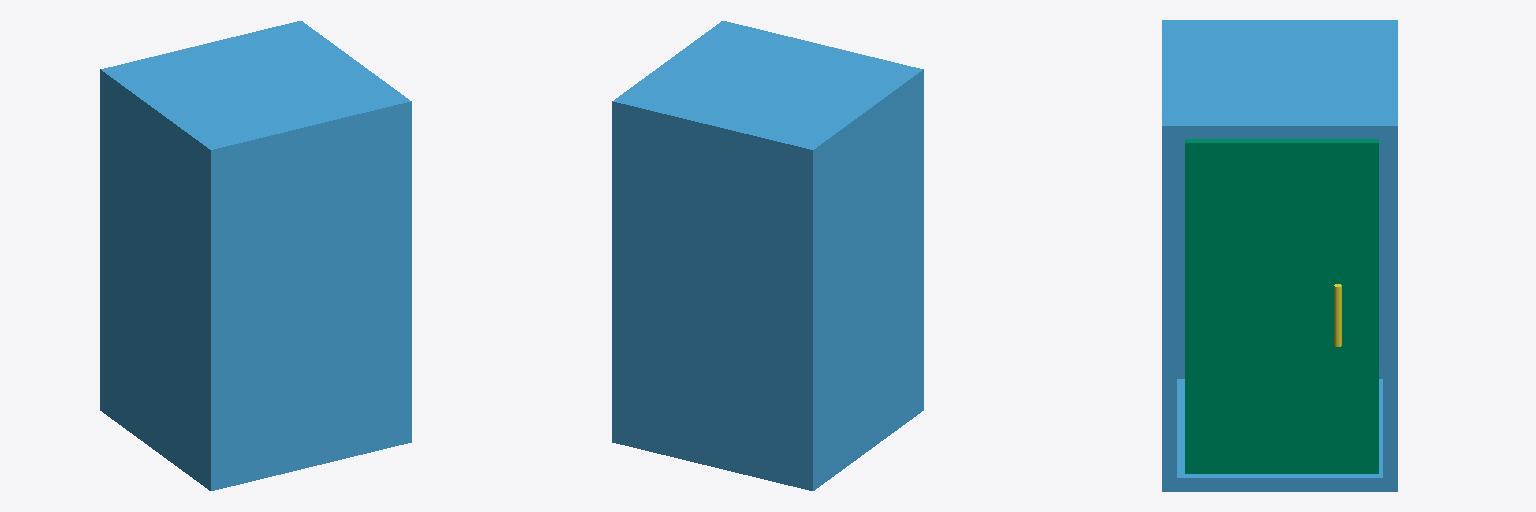
URDF robot description (my_cabinet):
<?xml version="1.0" ?>
<robot name="my_cabinet">
	<link name="world"/>
	<joint name="virtual_joint" type="fixed">
		<parent link="world"/>
		<child link="base_cabinet_link"/>
		<origin xyz="0.0 0.0 0.0" rpy="0.0 0.0 0.0"/>
	</joint>
	<link name="base_cabinet_link">
		<visual>
			<origin xyz="0.0 -0.0025 -0.2346928509614332" rpy="0.0 0.0 0.0"/>
			<geometry>
				<box size="0.3 0.28580366776067345 0.018"/>
			</geometry>
		</visual>
		<collision name="base_cabinet_link_collision_0">
			<origin xyz="0.0 -0.0025 -0.2346928509614332" rpy="0.0 0.0 0.0"/>
			<geometry>
				<box size="0.3 0.28580366776067345 0.018"/>
			</geometry>
		</collision>
		<visual>
			<origin xyz="0.0 0.13140183388033674 0.0" rpy="0.0 0.0 0.0"/>
			<geometry>
				<box size="0.3 0.018 0.4873857019228664"/>
			</geometry>
		</visual>
		<collision name="base_cabinet_link_collision_1">
			<origin xyz="0.0 0.13140183388033674 0.0" rpy="0.0 0.0 0.0"/>
			<geometry>
				<box size="0.3 0.018 0.4873857019228664"/>
			</geometry>
		</collision>
		<visual>
			<origin xyz="0.0 -0.13640183388033675 0.0" rpy="0.0 0.0 0.0"/>
			<geometry>
				<box size="0.3 0.018 0.4873857019228664"/>
			</geometry>
		</visual>
		<collision name="base_cabinet_link_collision_2">
			<origin xyz="0.0 -0.13640183388033675 0.0" rpy="0.0 0.0 0.0"/>
			<geometry>
				<box size="0.3 0.018 0.4873857019228664"/>
			</geometry>
		</collision>
		<visual>
			<origin xyz="0.0 -0.0025 0.2346928509614332" rpy="0.0 0.0 0.0"/>
			<geometry>
				<box size="0.3 0.2858036677606735 0.018"/>
			</geometry>
		</visual>
		<collision name="base_cabinet_link_collision_3">
			<origin xyz="0.0 -0.0025 0.2346928509614332" rpy="0.0 0.0 0.0"/>
			<geometry>
				<box size="0.3 0.2858036677606735 0.018"/>
			</geometry>
		</collision>
		<visual>
			<origin xyz="-0.141 -0.0025 0.0" rpy="0.0 0.0 0.0"/>
			<geometry>
				<box size="0.018 0.2858036677606735 0.4873857019228664"/>
			</geometry>
		</visual>
		<collision name="base_cabinet_link_collision_4">
			<origin xyz="-0.141 -0.0025 0.0" rpy="0.0 0.0 0.0"/>
			<geometry>
				<box size="0.018 0.2858036677606735 0.4873857019228664"/>
			</geometry>
		</collision>
		<inertial>
			<mass value="0.200000"/>
			<inertia ixx="0.005320" ixy="0.0" ixz="0.0" iyy="0.005459" iyz="0.0" izz="0.002861"/>
		</inertial>
	</link>
	<link name="door_link">
		<visual>
			<origin xyz="0.0 -0.11740183388033675 0.0"/>
			<geometry>
				<box size="0.018 0.2348036677606735 0.44138570192286636"/>
			</geometry>
		</visual>
		<collision name="door_link_collision">
			<origin xyz="0.0 -0.11740183388033675 0.0"/>
			<geometry>
				<box size="0.018 0.2348036677606735 0.44138570192286636"/>
			</geometry>
		</collision>
		<inertial>
			<mass value="0.200000"/>
			<inertia ixx="0.004166" ixy="0.0" ixz="0.0" iyy="0.003252" iyz="0.0" izz="0.000924"/>
		</inertial>
	</link>
	<joint name="door_joint" type="revolute">
		<origin xyz="0.141 -0.11740183388033675 0.0" rpy="0.000000 -0.000000 3.141593"/>
		<axis xyz="0 0 1"/>
		<parent link="base_cabinet_link"/>
		<child link="door_link"/>
		<limit effort="50" lower="-1.658062789394613" upper="0" velocity="10"/>
		<dynamics friction="3.5" damping="3.5"/>
	</joint>
	<link name="handle_link">
		<visual>
			<origin xyz="0.0 0.0 0.0" rpy="0.0 0.0 0.0"/>
			<geometry>
				<cylinder length="0.08" radius="0.005"/>
			</geometry>
		</visual>
		<collision name="handle_link_collision_0">
			<origin xyz="0.0 0.0 0.0" rpy="0.0 0.0 0.0"/>
			<geometry>
				<cylinder length="0.08" radius="0.005"/>
			</geometry>
		</collision>
		<visual>
			<origin xyz="-0.01 0.0 0.02" rpy="0.0 1.5707963267948966 0.0"/>
			<geometry>
				<cylinder length="0.02" radius="0.003"/>
			</geometry>
		</visual>
		<collision name="handle_link_collision_1">
			<origin xyz="-0.01 0.0 0.02" rpy="0.0 1.5707963267948966 0.0"/>
			<geometry>
				<cylinder length="0.01" radius="0.003"/>
			</geometry>
		</collision>
		<visual>
			<origin xyz="-0.01 0.0 -0.02" rpy="0.0 1.5707963267948966 0.0"/>
			<geometry>
				<cylinder length="0.02" radius="0.003"/>
			</geometry>
		</visual>
		<collision name="handle_link_collision_2">
			<origin xyz="-0.01 0.0 -0.02" rpy="0.0 1.5707963267948966 0.0"/>
			<geometry>
				<cylinder length="0.02" radius="0.003"/>
			</geometry>
		</collision>
		<inertial>
			<mass value="0.050000"/>
			<inertia ixx="0.000027" ixy="0.0" ixz="0.0" iyy="0.000029" iyz="0.0" izz="0.000003"/>
		</inertial>
	</link>
	<joint name="handle_joint" type="fixed">
		<origin xyz="-0.028999999999999998 -0.18480366776067347 0.0" rpy="0.000000 -0.000000 3.141593"/>
		<parent link="door_link"/>
		<child link="handle_link"/>
	</joint>
	<gazebo reference="base_cabinet_link">
		<sensor name="main_sensor" type="contact">
			<selfCollide>true</selfCollide>
			<alwaysOn>true</alwaysOn>
			<updateRate>5.0</updateRate>
			<material>Gazebo/Red</material>
			<contact>
				<collision>base_cabinet_link_collision_0_collision</collision>
				<collision>base_cabinet_link_collision_1_collision</collision>
				<collision>base_cabinet_link_collision_2_collision</collision>
				<collision>base_cabinet_link_collision_3_collision</collision>
				<collision>base_cabinet_link_collision_4_collision</collision>
			</contact>
			<plugin name="gazebo_ros_bumper_controller" filename="libgazebo_ros_bumper.so">
				<bumperTopicName>/contact</bumperTopicName>
				<frameName>world</frameName>
			</plugin>
		</sensor>
	</gazebo>
	<gazebo reference="door_link">
		<sensor name="main_sensor" type="contact">
			<selfCollide>true</selfCollide>
			<alwaysOn>true</alwaysOn>
			<updateRate>5.0</updateRate>
			<material>Gazebo/Red</material>
			<contact>
				<collision>door_link_collision_collision</collision>
			</contact>
			<plugin name="gazebo_ros_bumper_controller" filename="libgazebo_ros_bumper.so">
				<bumperTopicName>/contact_door</bumperTopicName>
				<frameName>contact_door</frameName>
			</plugin>
		</sensor>
	</gazebo>
	<gazebo reference="door_link">
		<mu>3.0</mu>
		<mu2>3.0</mu2>
		<kp>10000000</kp>
		<kd>100</kd>
	</gazebo>
</robot>

--- What the picture shows (computed from the rendered views, not written in the file) ---
3 views of the same robot in one strip: view 1: azimuth 30°, elevation 25°; view 2: azimuth 150°, elevation 25°; view 3: azimuth 270°, elevation 25° (orthographic).
Robot: my_cabinet — 4 links, 3 joints (1 revolute, 2 fixed); root link world; default pose: every joint at zero.
Visible links, largest first — view 1: base_cabinet_link; view 2: base_cabinet_link; view 3: door_link, base_cabinet_link.
Link boxes in pixels (box(x1,y1,x2,y2)): base_cabinet_link: box(100, 21, 411, 490); base_cabinet_link: box(612, 21, 923, 490); door_link: box(1185, 139, 1378, 473); base_cabinet_link: box(1162, 20, 1397, 491).
Size in the robot's own frame: 0.325 by 0.2858 by 0.4874 metres.
Geometry: primitives only (box / cylinder / sphere), no mesh files.
